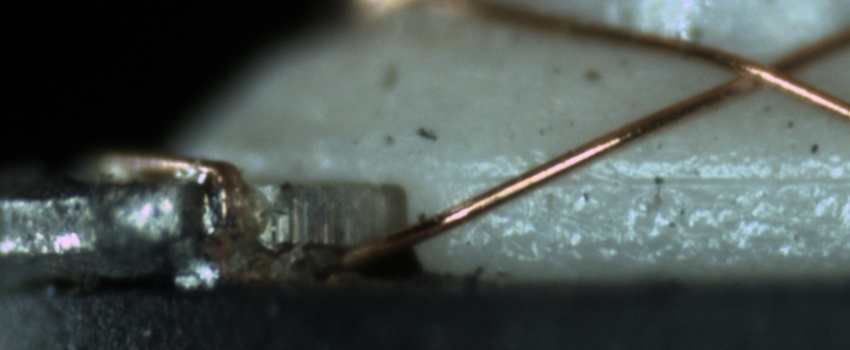CL: (713, 42, 818, 101)
DL: (453, 148, 849, 212)
TE: (88, 150, 251, 255)
